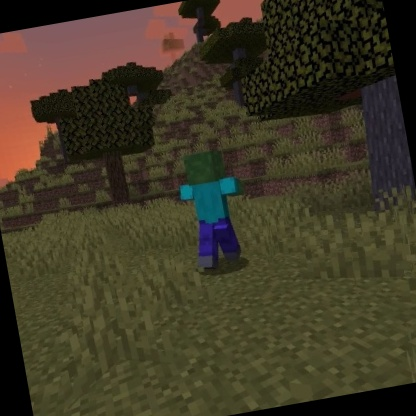zombie: (168, 143, 263, 277)
